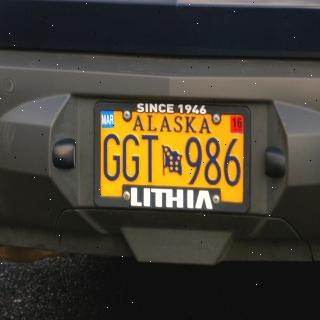license: (102, 112, 244, 204)
